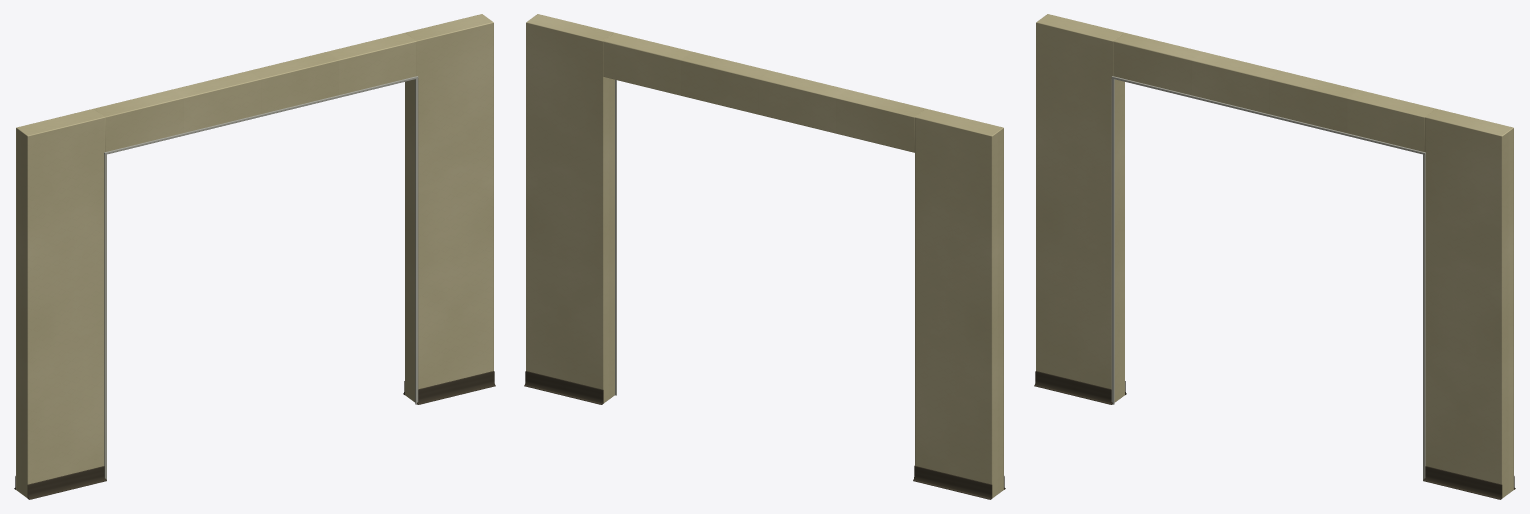
File: wall_portal_366.gltf
The picture shows the model from 3 angles, left to right: view 1: azimuth 30°, elevation 25°; view 2: azimuth 150°, elevation 25°; view 3: azimuth 330°, elevation 25°; orthographic projection.
Visible parts, largest first — view 1: wall_portal_366; view 2: wall_portal_366; view 3: wall_portal_366.
Part boxes in pixels (left/top/right/bottom): wall_portal_366: left=14, top=14, right=495, bottom=499; wall_portal_366: left=524, top=14, right=1005, bottom=499; wall_portal_366: left=1034, top=14, right=1515, bottom=499.
Size of the model in its own units: 3.66 by 2.72 by 0.208.
3 materials, 3 textured.
